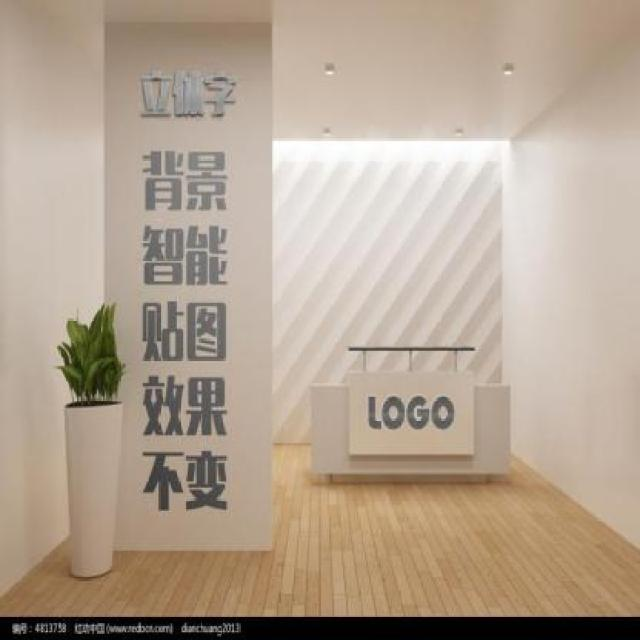frontdesk: (303, 371, 524, 500)
